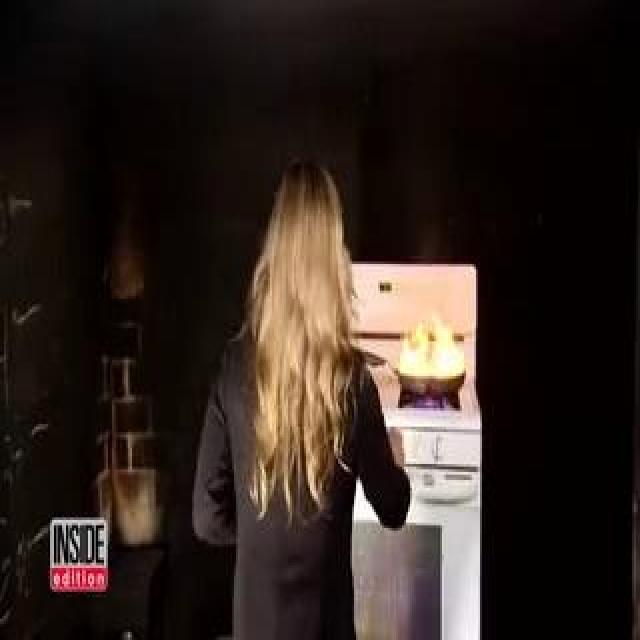Fire: (72, 88, 430, 342)
